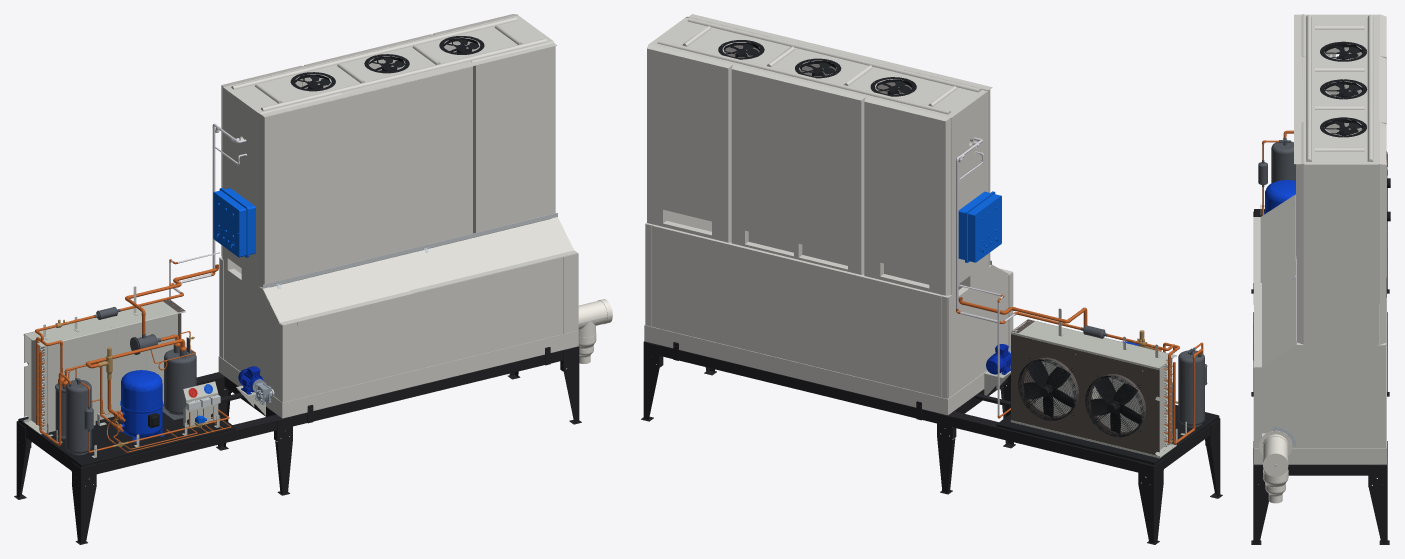
3 views of the same model, side by side, from view 1: azimuth 30°, elevation 25°; view 2: azimuth 150°, elevation 25°; view 3: azimuth 270°, elevation 25° (orthographic). The views are drawn at different scales.
Bounding box in the file's own units: 5.22 × 3.39 × 1.12.
